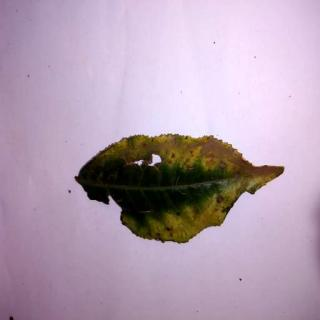Anthracnose: (77, 135, 287, 247)
